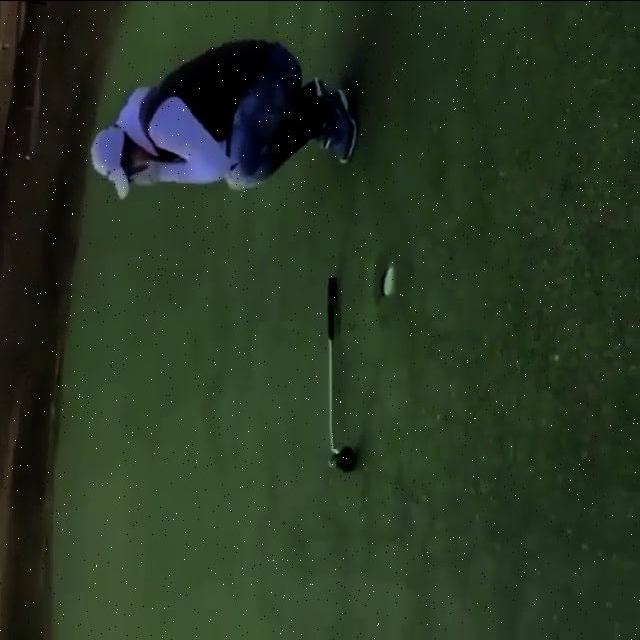ClubHandle: (324, 273, 360, 473)
ClubHead: (325, 446, 358, 470)
